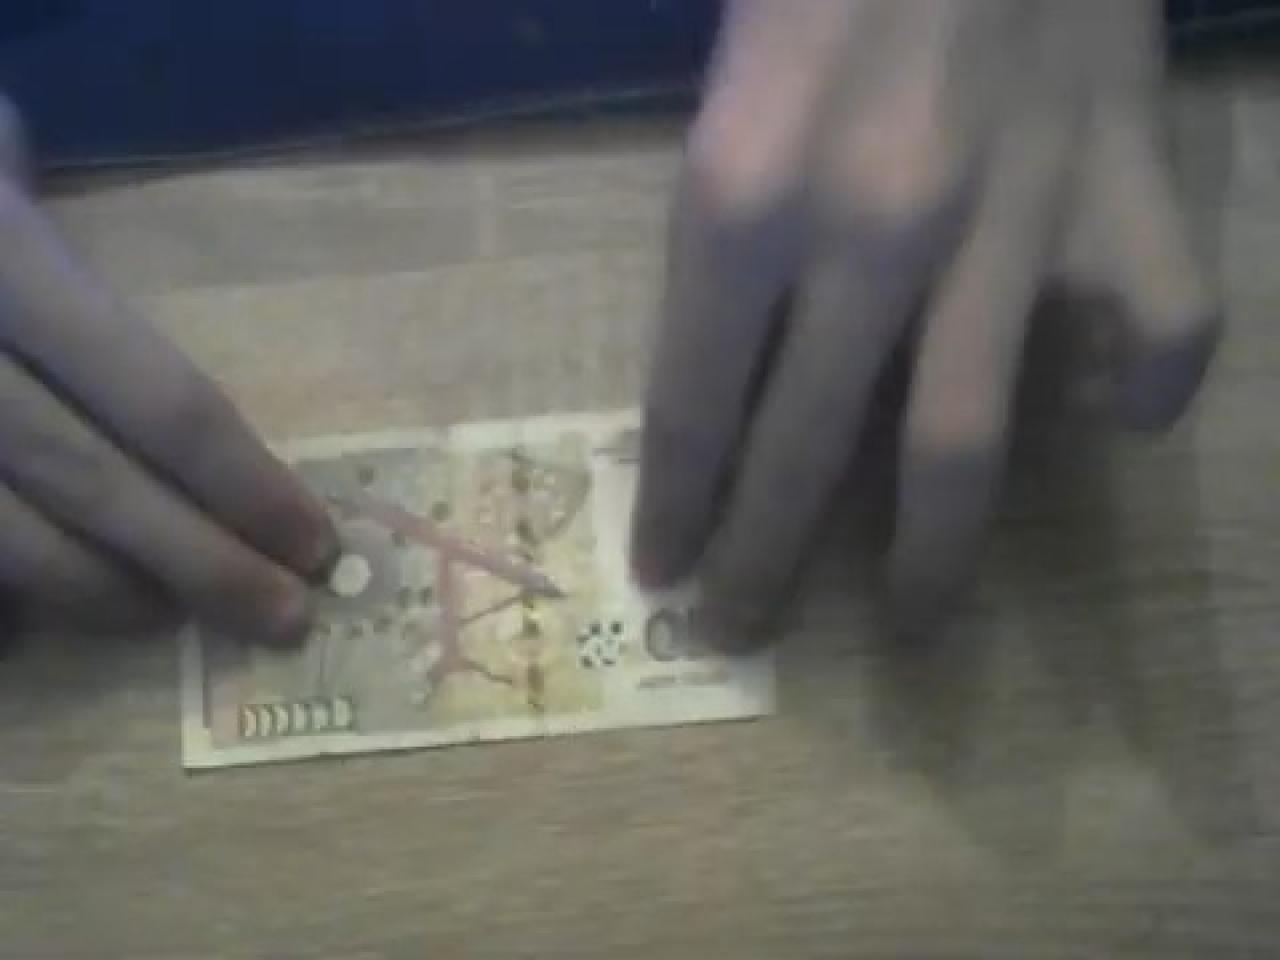10leva: (184, 410, 779, 776)
